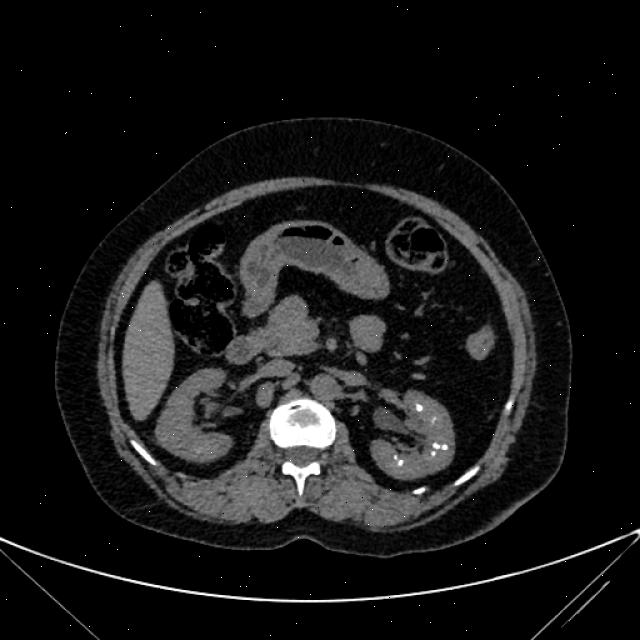kidneystone: (432, 443, 448, 450), (416, 404, 424, 412), (430, 451, 436, 457), (398, 459, 402, 466), (394, 454, 398, 459)
